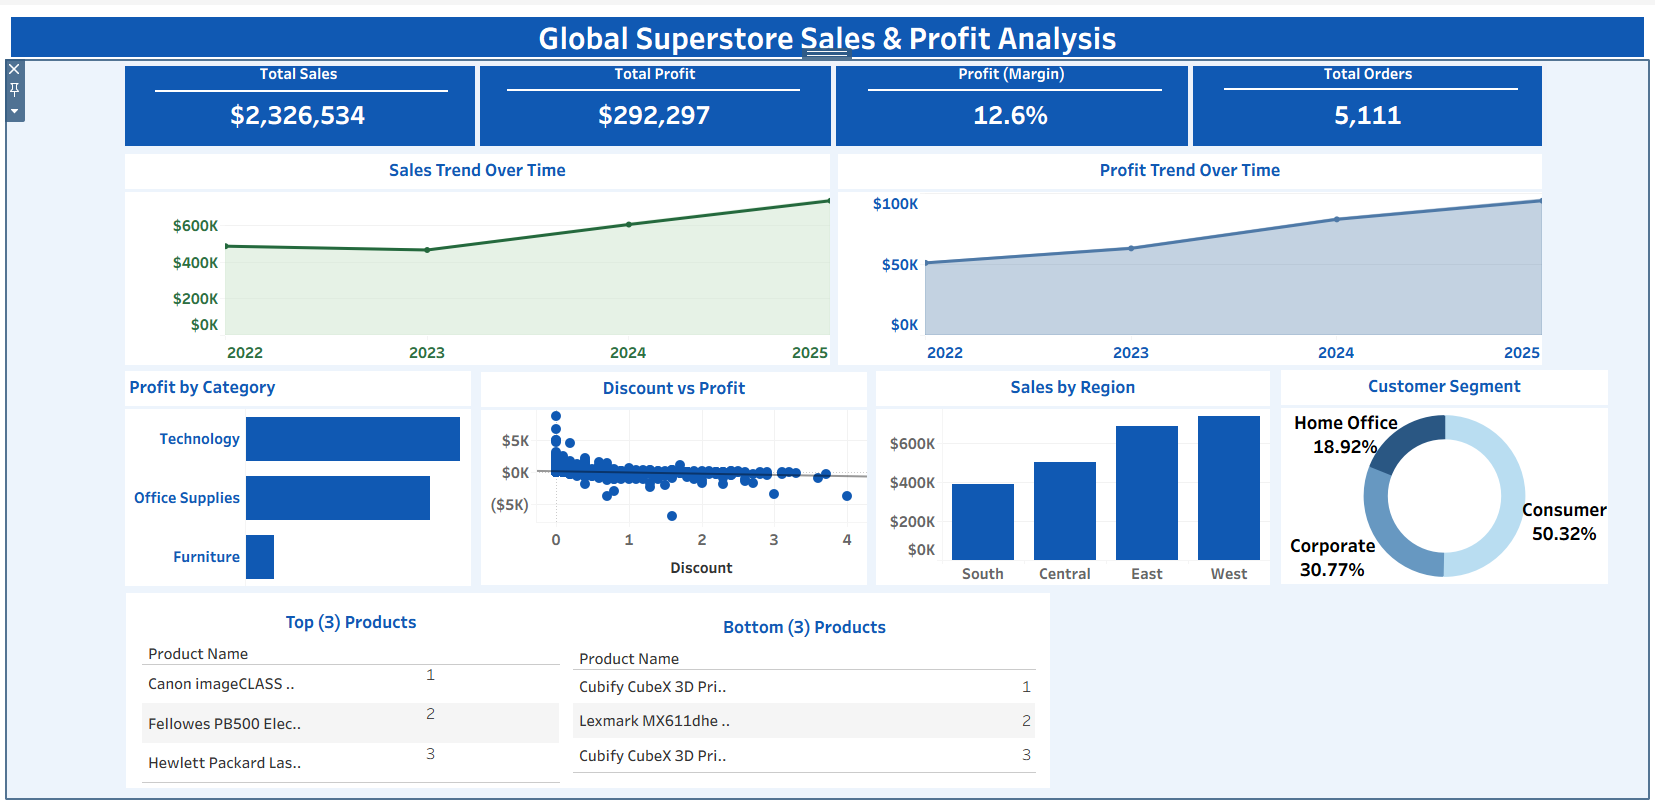

This screenshot's page, from the dashboard's own definition file:
{"tool":"tableau","page":{"name":"Dashboard 1","canvas":[1000,1000],"units":"permille","ordinal":0},"visuals":[{"type":"title","box":[4.8,10,990.3,59.9]},{"type":"worksheet","title":"Kpi","mark":"Automatic","box":[71.8,69.9,863.6,108.6]},{"type":"worksheet","title":"Sales Trend","mark":"Area","rows":["Sales","Sales"],"cols":["Order Year"],"box":[76,186,425.5,263.4]},{"type":"worksheet","title":"Profit Trend","mark":"Area","rows":["Profit","Profit"],"cols":["Order Year"],"box":[506.3,186,424.9,263.4]},{"type":"worksheet","title":"Customer Segment","mark":"Pie","rows":["Calculation_1125055522787188737","Calculation_1125055522787188737"],"box":[773.7,455.7,197.3,260.9]},{"type":"worksheet","title":"Profit by Category","mark":"Automatic","rows":["Category"],"cols":["Profit"],"box":[76,456.9,208.8,268.4]},{"type":"worksheet","title":"Sales by Region","mark":"Bar","rows":["Sales"],"cols":["Region"],"box":[529.3,456.9,237.8,263.4]},{"type":"worksheet","title":"Discount vs Profit","mark":"Circle","rows":["Profit"],"cols":["Discount"],"box":[290.9,458.2,233,265.9]},{"type":"worksheet","title":"Top (3) Products","mark":"Automatic","rows":["Product Name"],"box":[86.3,750.3,252.3,221]},{"type":"worksheet","title":"Bottom (3) Products","mark":"Automatic","rows":["Product Name"],"box":[343.4,759.1,279.4,202.2]}]}

Visuals, with their boxes on the dashboard's canvas, which has no fixed pixel size, in thousandths of its width and height (x1, y1, x2, y2). These are canvas units, not pixel positions in the 1655x802 screenshot, which may show the page scaled, cropped or inside an application window:
title: box(5, 10, 995, 70)
"Kpi" worksheet: box(72, 70, 935, 178)
"Sales Trend" worksheet (Area marks): box(76, 186, 502, 449)
"Profit Trend" worksheet (Area marks): box(506, 186, 931, 449)
"Customer Segment" worksheet (Pie marks): box(774, 456, 971, 717)
"Profit by Category" worksheet: box(76, 457, 285, 725)
"Sales by Region" worksheet (Bar marks): box(529, 457, 767, 720)
"Discount vs Profit" worksheet (Circle marks): box(291, 458, 524, 724)
"Top (3) Products" worksheet: box(86, 750, 339, 971)
"Bottom (3) Products" worksheet: box(343, 759, 623, 961)
